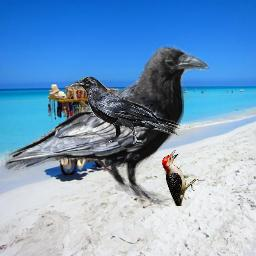Crow: (1, 44, 209, 208), (70, 76, 185, 146)
Woodpecker: (162, 149, 199, 206)
